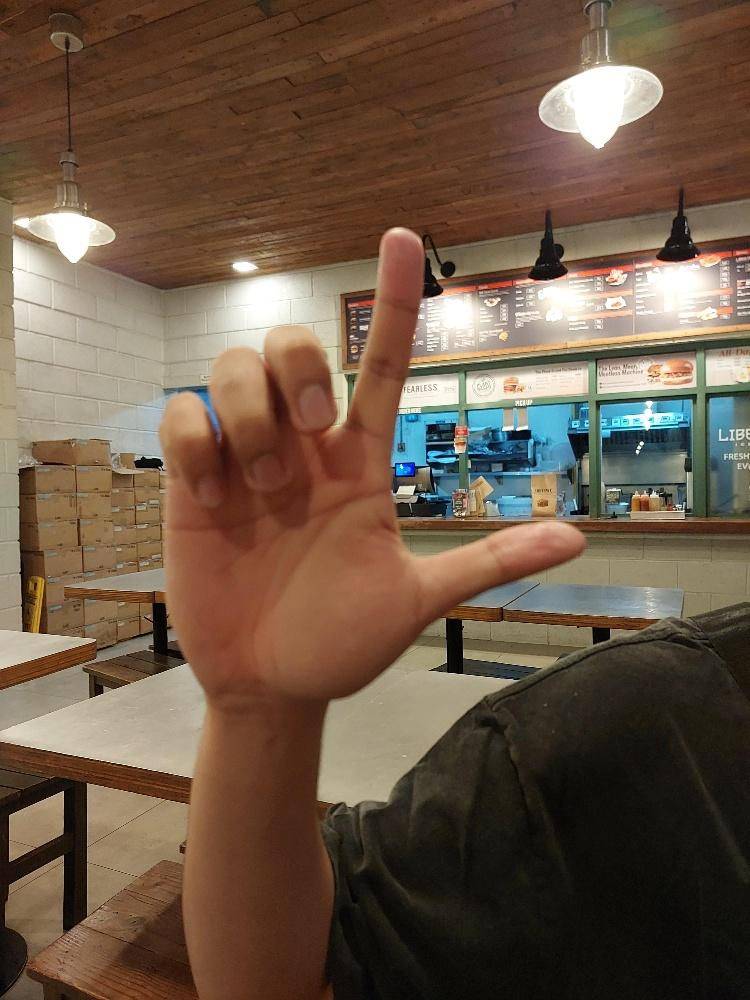l: (161, 224, 586, 708)
